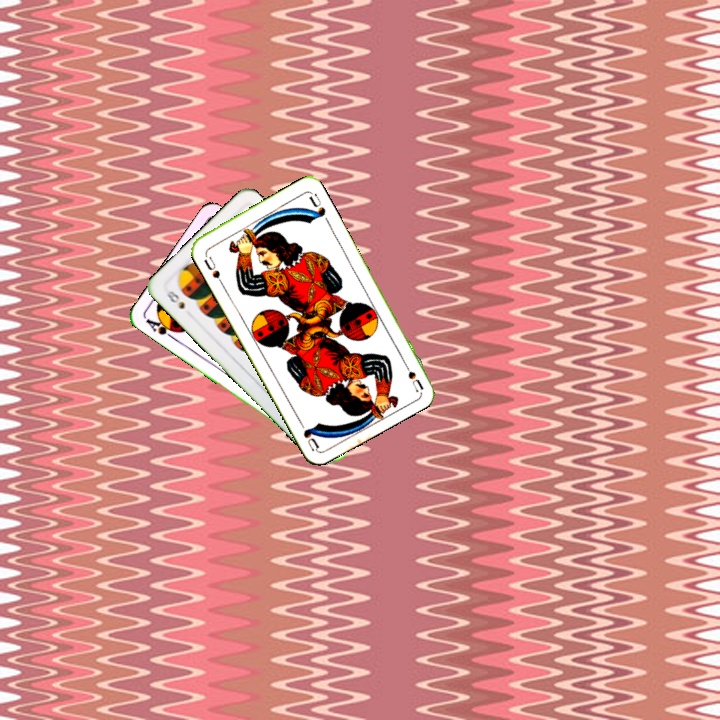S8: (162, 287, 187, 312)
SA: (141, 313, 181, 342)
SU: (398, 355, 425, 393), (200, 249, 225, 287)
